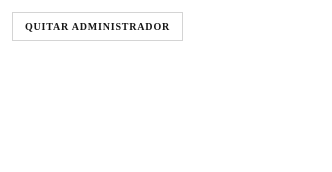
Scenario: RoleControl › shows the refusal message (e.g. last admin) in an alert
This screenshot has width=332, height=172.
Click the button "Quitar administrador" at coordinates (98, 26), box 12,12 -> 183,41
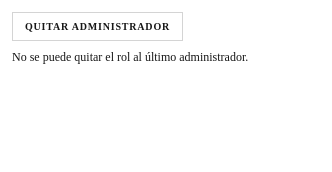
Expected: the message shows "último administrador", 12,50 -> 248,64
